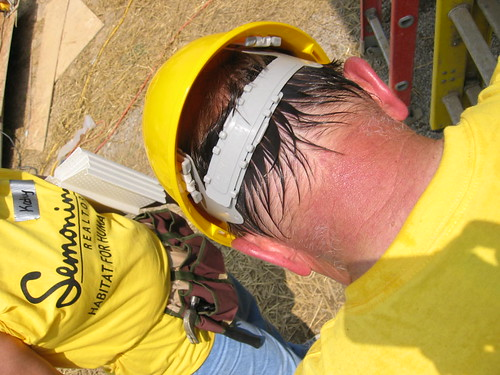person hardhat: (135, 18, 500, 373)
